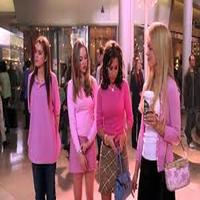person: (134, 13, 182, 105), (23, 30, 61, 92), (99, 30, 130, 100), (67, 33, 97, 85), (181, 47, 200, 88)
